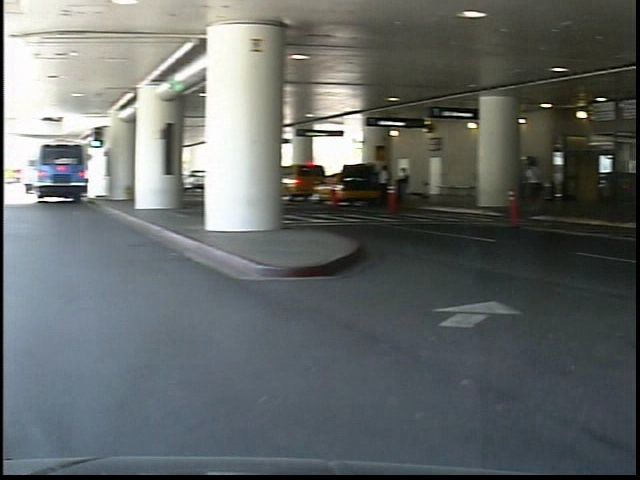person: (526, 156, 552, 211)
